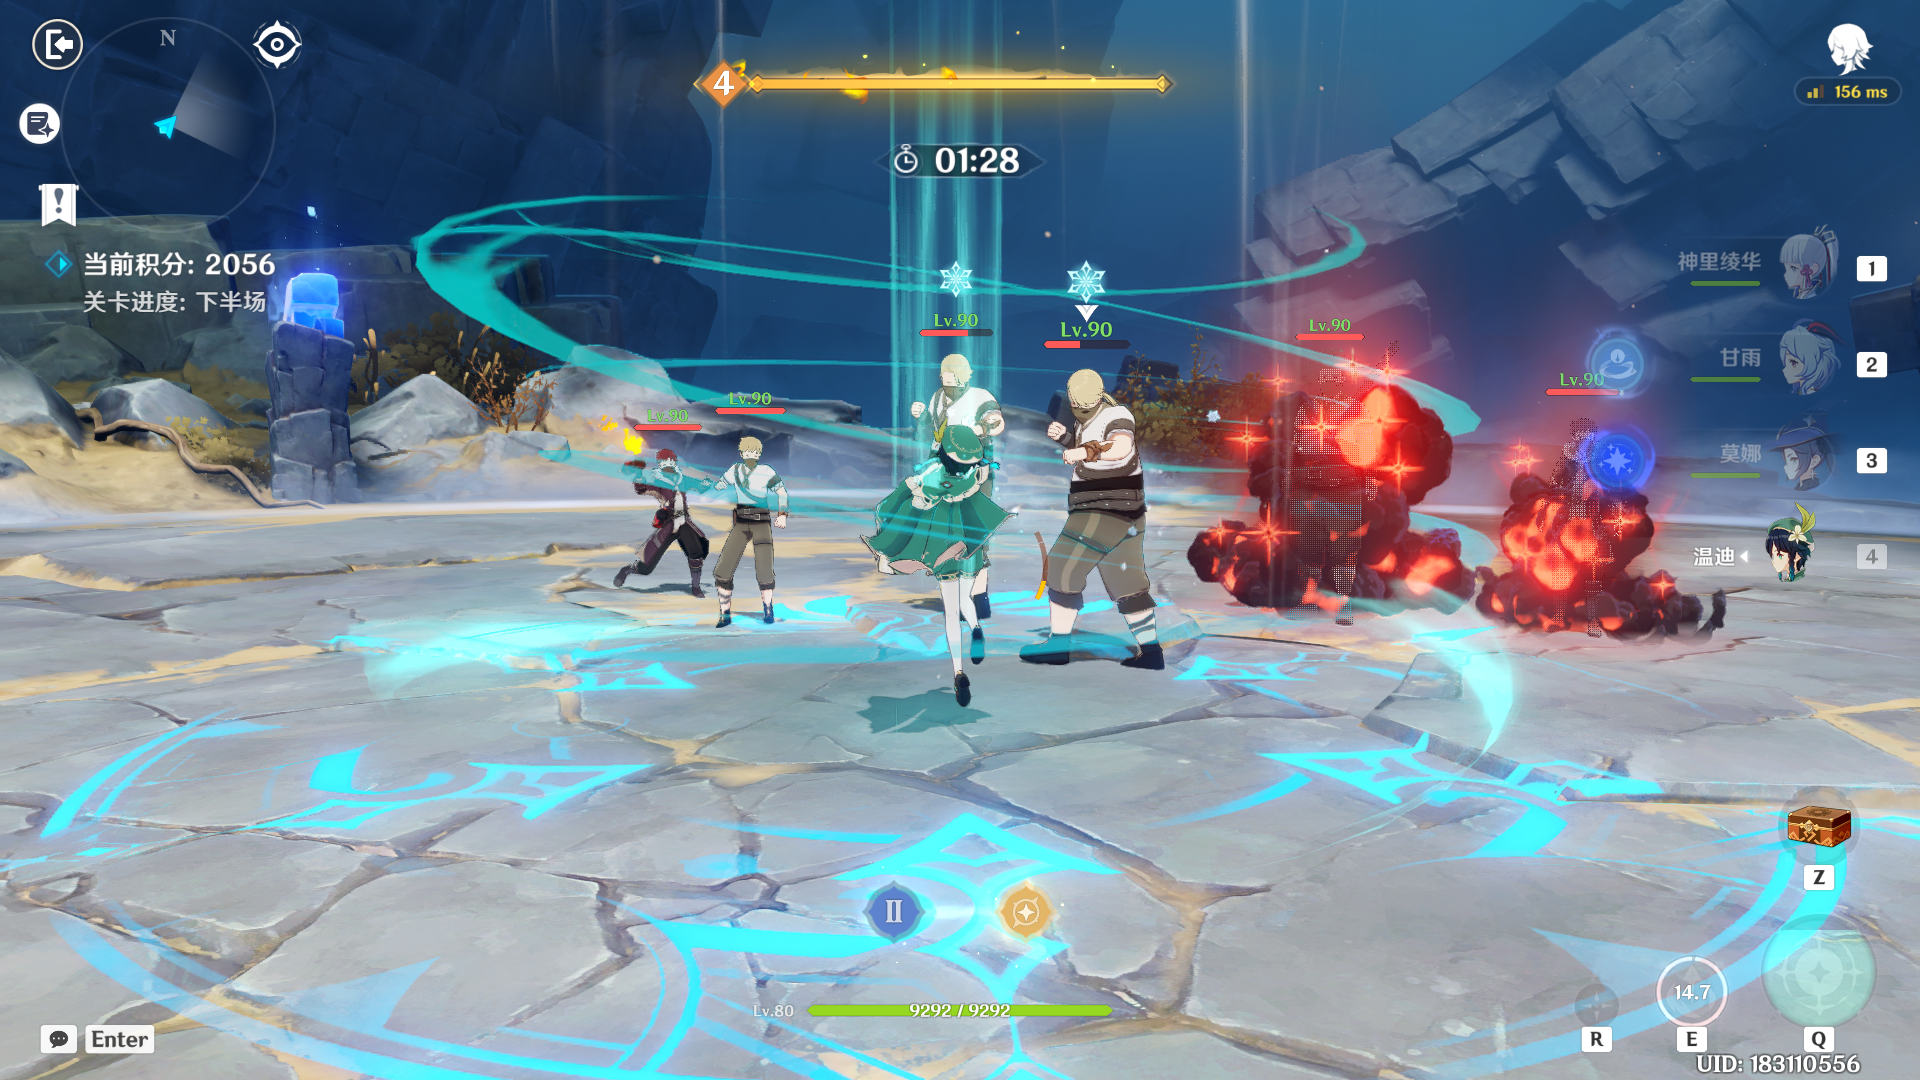character: (852, 406, 1054, 713)
robber: (1015, 330, 1211, 731), (673, 398, 836, 640), (584, 411, 733, 630), (913, 355, 1009, 440)
